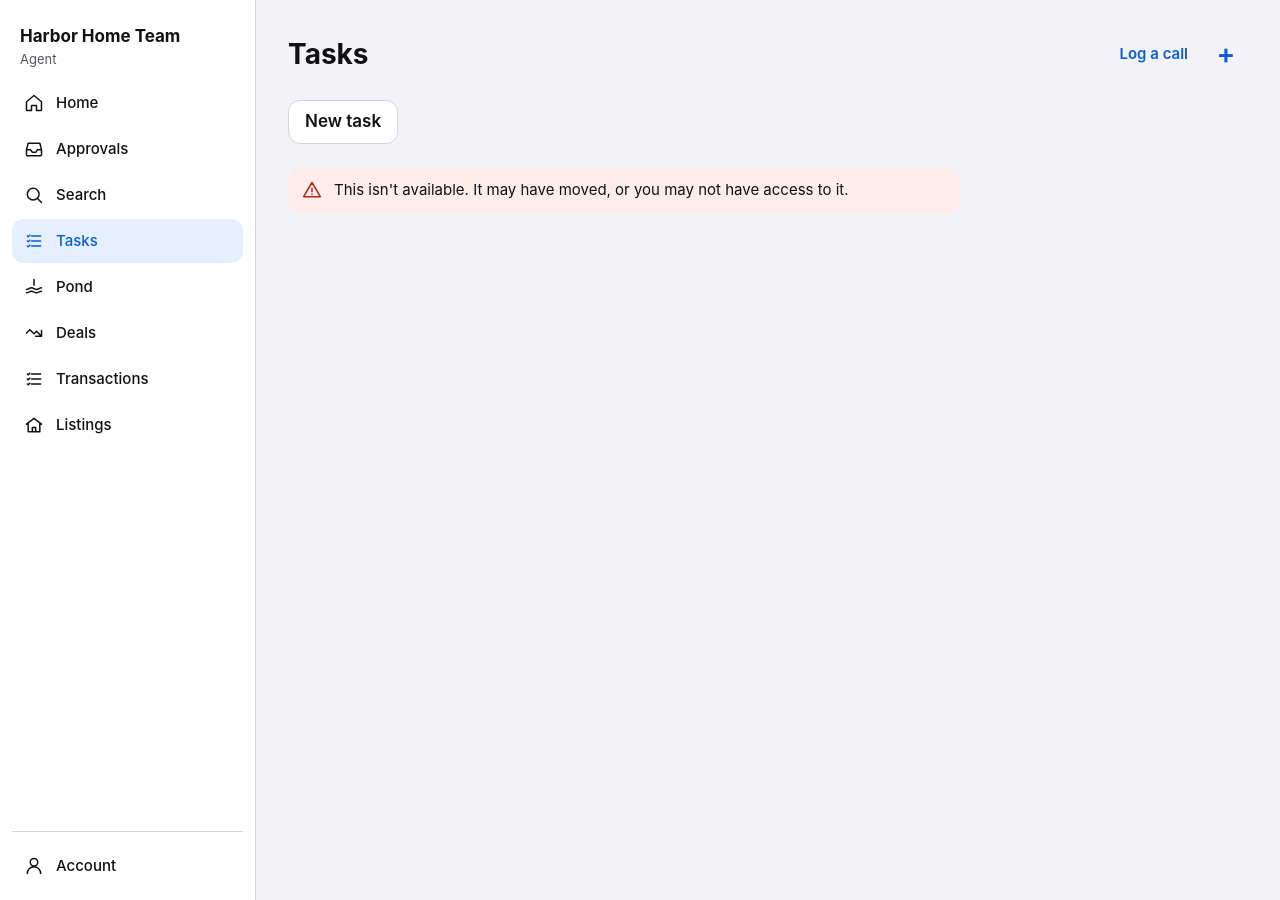
Scenario: R-TODAY-9: "Log a call or conversation" from any screen › E855: typing a name searches (from 2 letters); a person the viewer sees only as a card is not offered
Click the button with aria-label "Log a call or conversation" at (1154, 54), box [1112,32,1196,76]
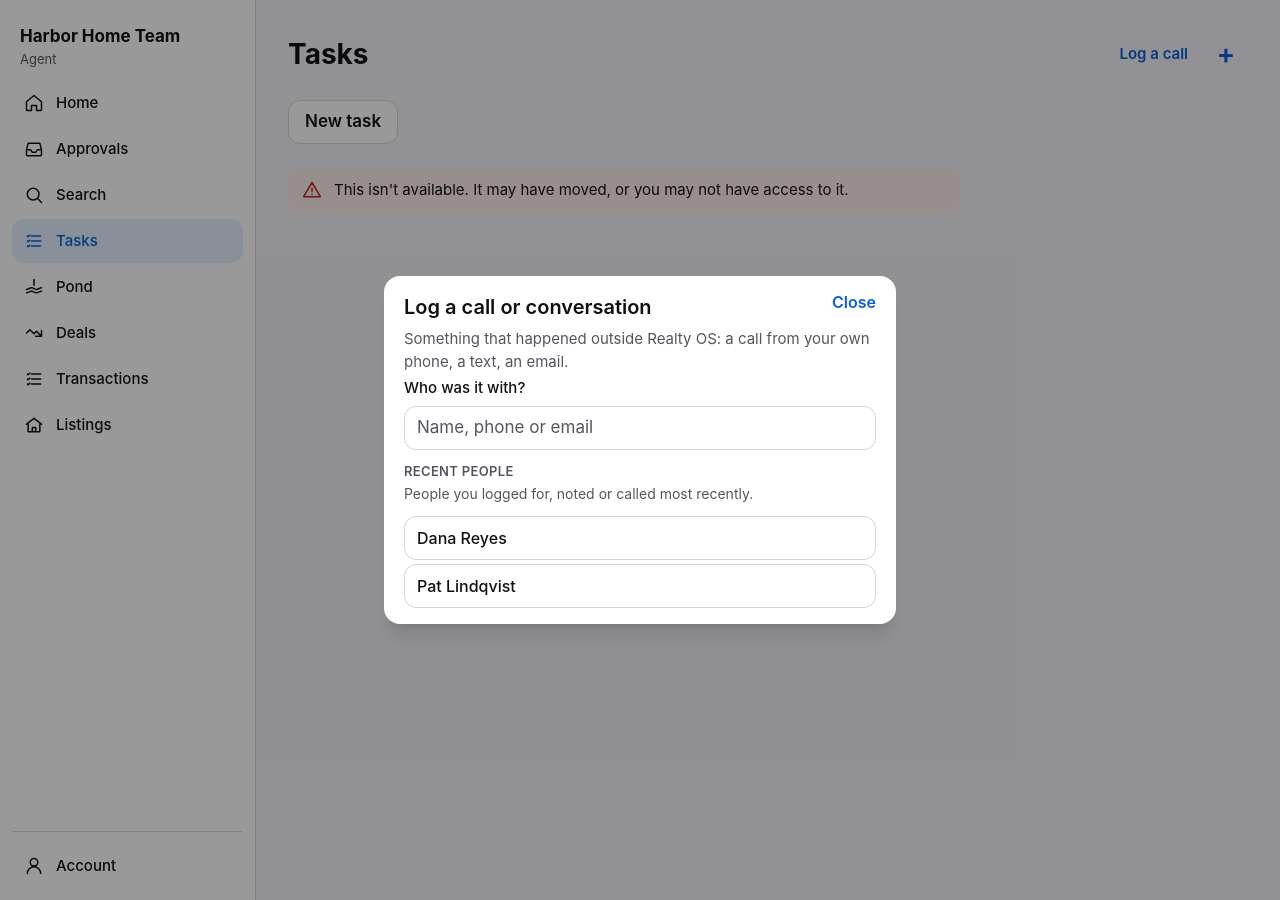
Type "pat" into the search field labelled "Who was it with?" at (640, 428), box [404,406,876,450]
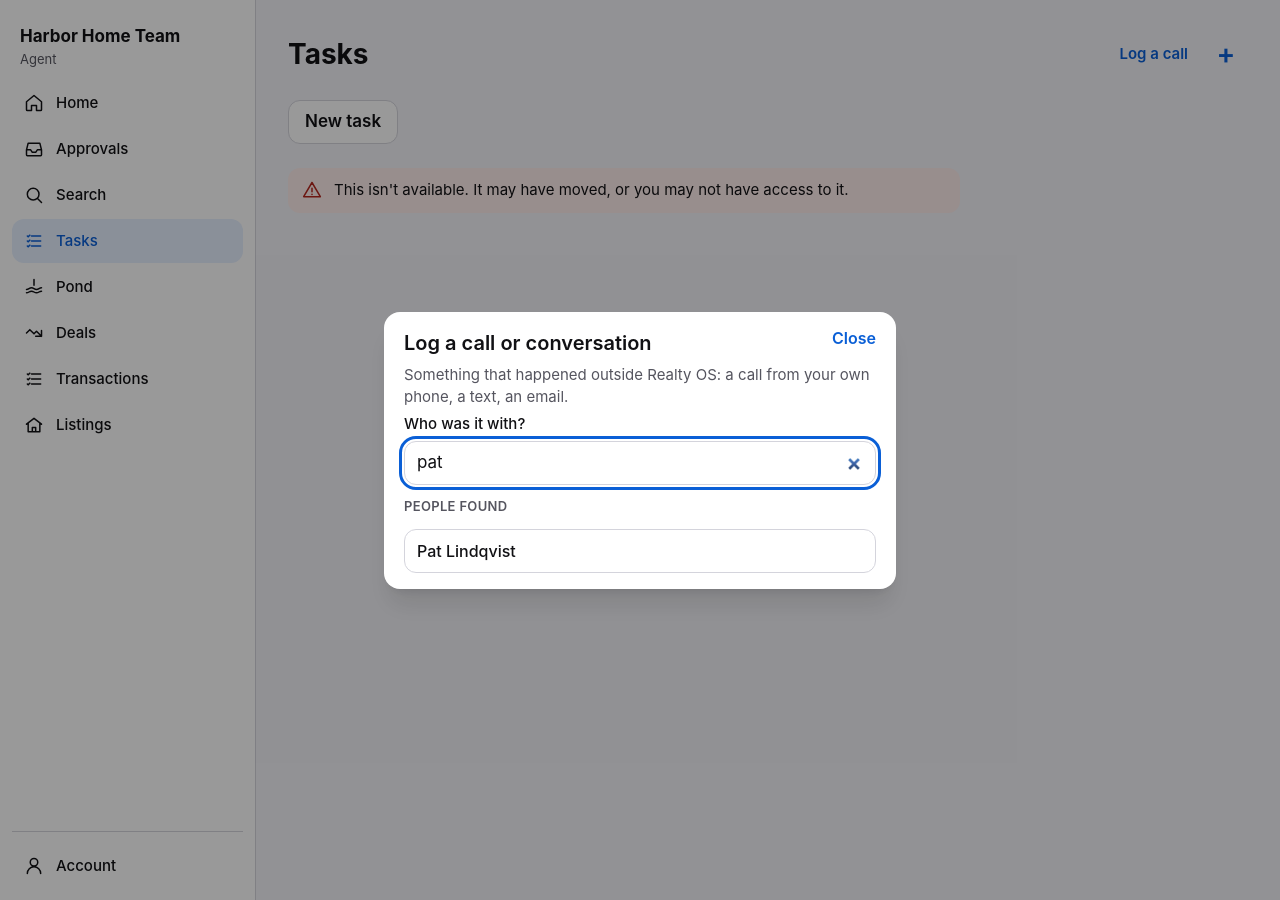
Now the text "People found" is shown, box [404,498,508,514]
